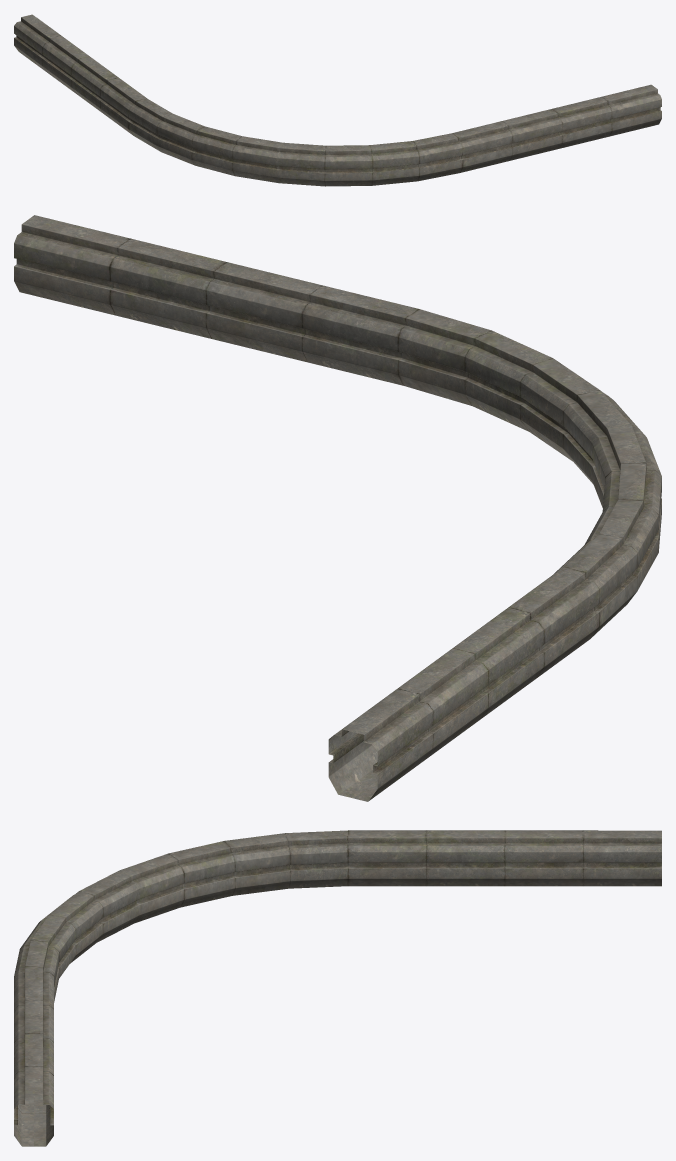
Rendered from Railing_base02.fbx.
3 renders of one model, top to bottom at view 1: azimuth 30°, elevation 25°; view 2: azimuth 150°, elevation 25°; view 3: azimuth 270°, elevation 25°, orthographic. The views are drawn at different scales.
Visible parts, largest first — view 1: Railing_base02; view 2: Railing_base02; view 3: Railing_base02.
Part boxes in pixels (x1=…): Railing_base02: x1=14, y1=14, x2=661, y2=186; Railing_base02: x1=14, y1=215, x2=661, y2=801; Railing_base02: x1=14, y1=830, x2=661, y2=1146.
Bounding box in the file's own units: 516 × 41.2 × 516.
